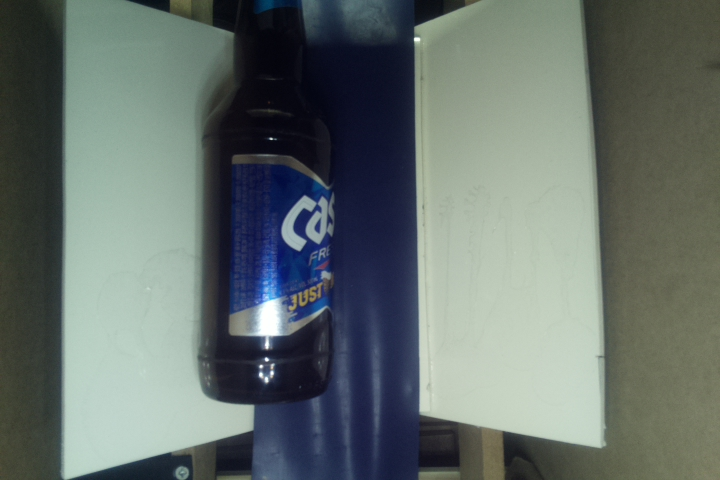makju: (190, 1, 340, 403)
